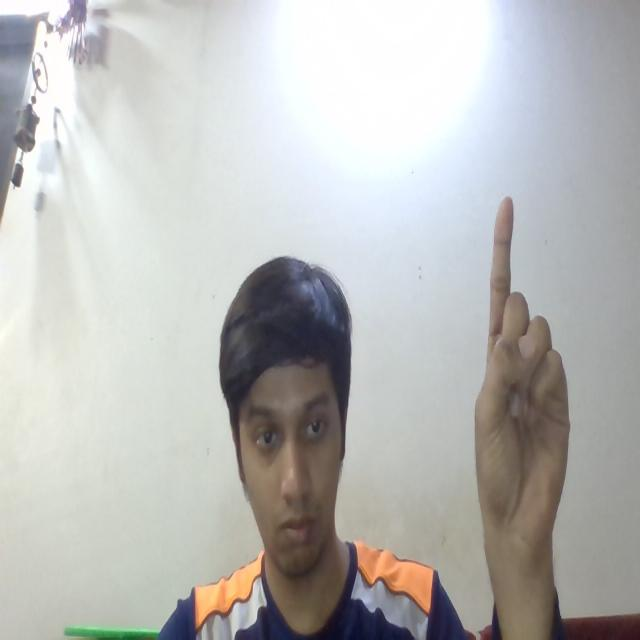Z: (465, 194, 592, 580)
